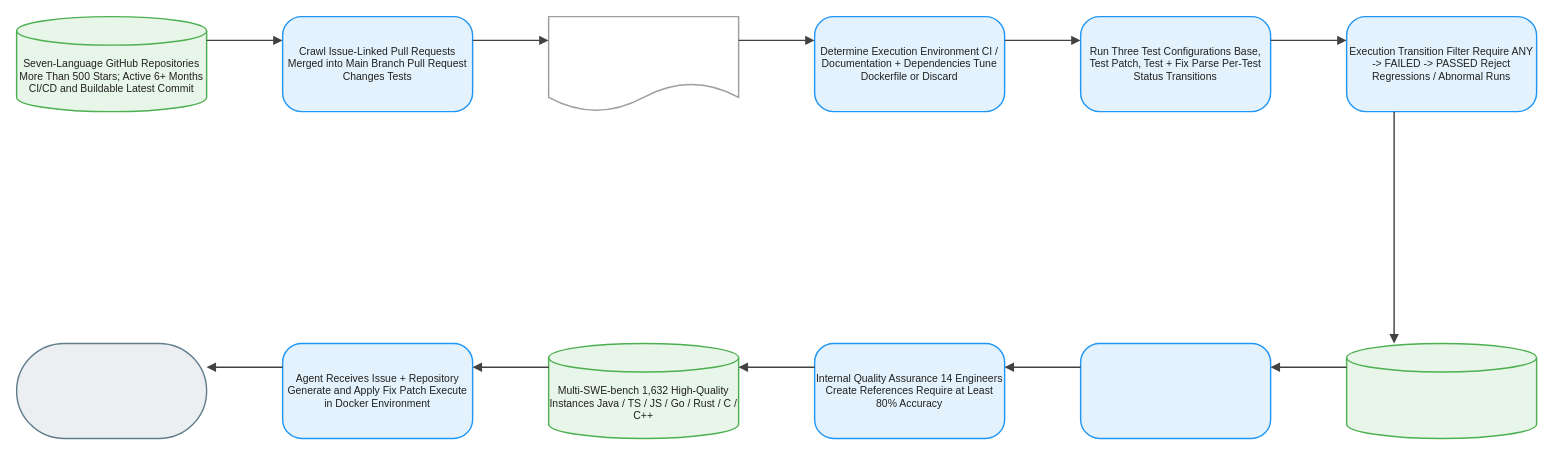
Image size: 1554x456. Some labels were removed from this diagram. Here are the shapes that lost their labels. From the top down, the centre of each, then its label:
(643,63): Construct Candidate Artifacts Issue + Base Commit Fix Patch + Test Patch
(111,390): Executable Evaluation Resolved Rate + Success Location Average Cost
(1175,390): Dual Expert Annotation Cross-Review Every Instance 68 Expert Annotators
(1441,390): 2,456 Executable Candidates 39 Repositories Seven Programming Languages
